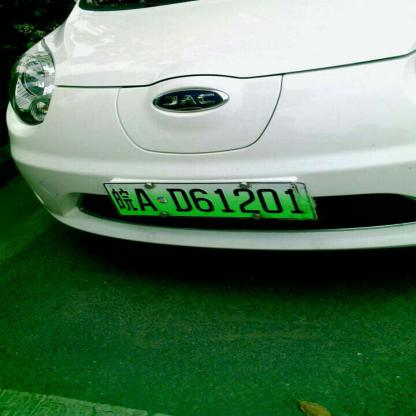lp: (102, 182, 315, 218)
